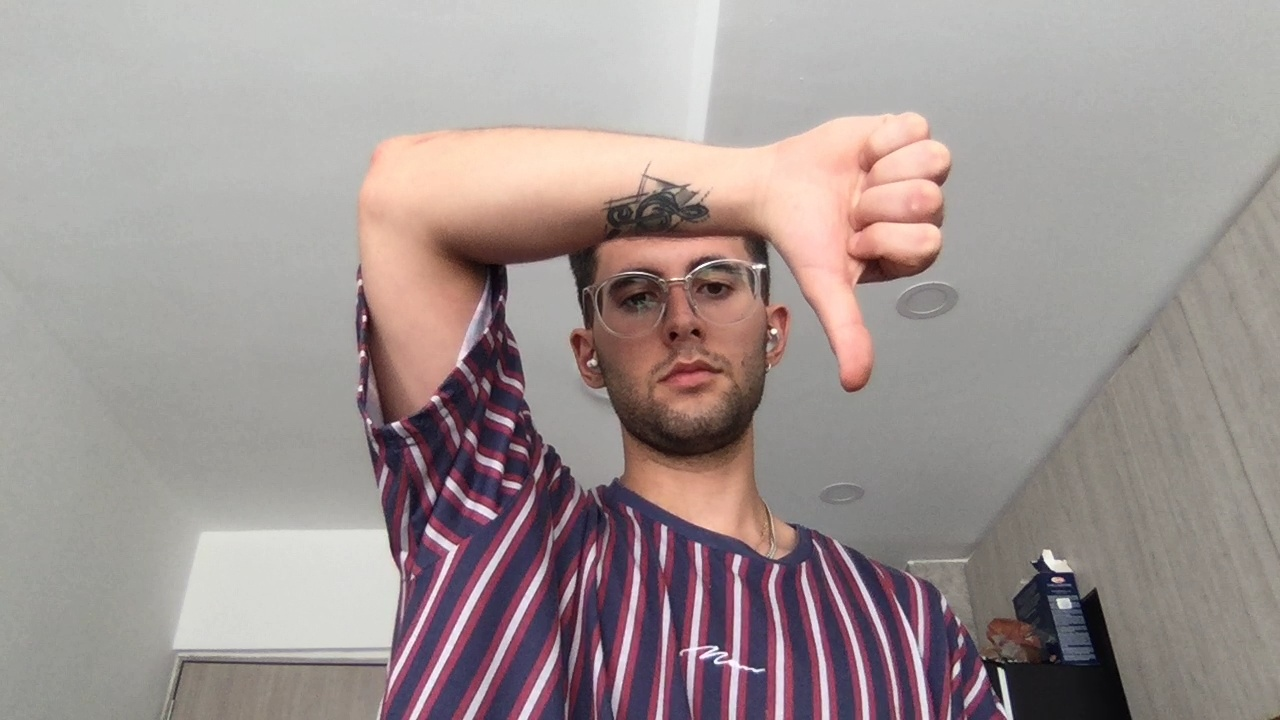bad: (791, 109, 957, 394)
